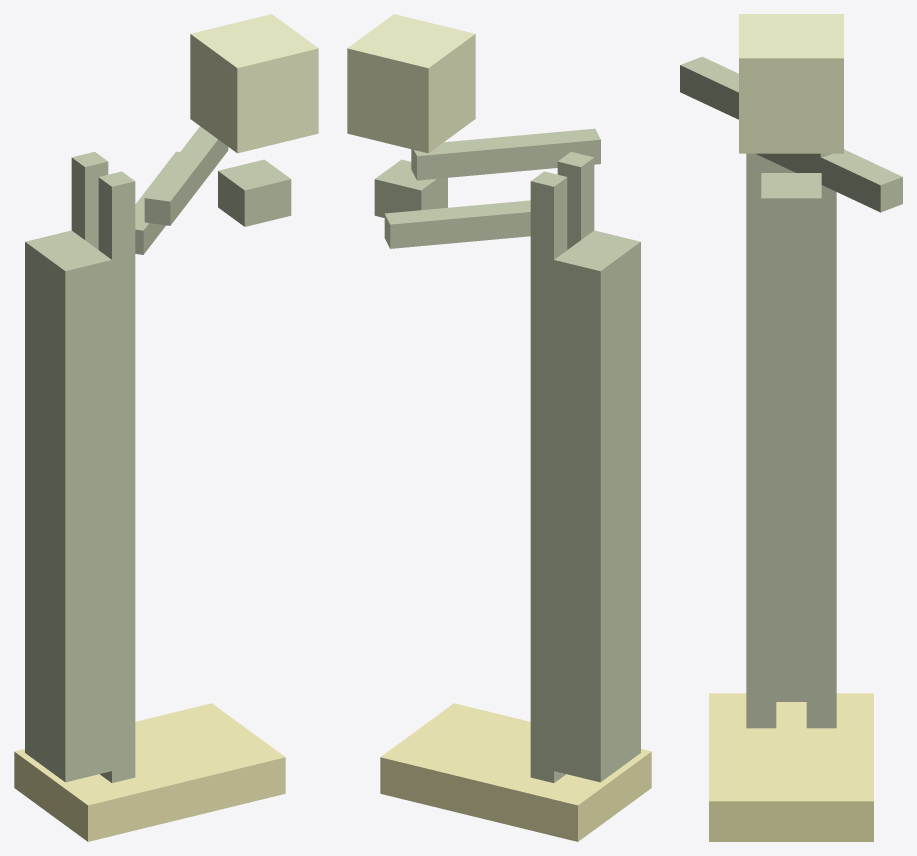
Rendered from furniture_signal_base_conduit_riser.glb.
The picture shows the model from 3 angles, left to right: view 1: azimuth 30°, elevation 25°; view 2: azimuth 150°, elevation 25°; view 3: azimuth 270°, elevation 25°; orthographic projection. The views are drawn at different scales.
Parts seen in each view (by area): view 1: clamp_back, pad, riser_left, service_head, inspection_cap, sweep_left, riser_right, sweep_right; view 2: clamp_back, pad, riser_right, service_head, sweep_left, sweep_right, inspection_cap, riser_left; view 3: pad, riser_left, riser_right, service_head, clamp_back, sweep_right, inspection_cap, sweep_left.
Boxes of the visible parts, bbox=[...] form: clamp_back: bbox=[25, 230, 111, 782]; pad: bbox=[14, 703, 285, 841]; riser_left: bbox=[98, 171, 135, 782]; service_head: bbox=[190, 14, 318, 153]; inspection_cap: bbox=[218, 159, 291, 226]; sweep_left: bbox=[144, 126, 228, 225]; riser_right: bbox=[71, 151, 108, 249]; sweep_right: bbox=[135, 151, 179, 254]; clamp_back: bbox=[554, 230, 640, 782]; pad: bbox=[380, 703, 651, 841]; riser_right: bbox=[530, 171, 567, 782]; service_head: bbox=[347, 14, 475, 153]; sweep_left: bbox=[411, 128, 600, 180]; sweep_right: bbox=[384, 200, 530, 248]; inspection_cap: bbox=[374, 159, 447, 217]; riser_left: bbox=[557, 151, 594, 249]; pad: bbox=[709, 693, 873, 841]; riser_left: bbox=[746, 153, 776, 728]; riser_right: bbox=[806, 185, 836, 728]; service_head: bbox=[739, 14, 843, 153]; clamp_back: bbox=[776, 164, 806, 701]; sweep_right: bbox=[755, 149, 902, 212]; inspection_cap: bbox=[761, 173, 821, 239]; sweep_left: bbox=[680, 56, 831, 157].
Size of the model in its own units: 0.43 by 1.19 by 0.2971.
